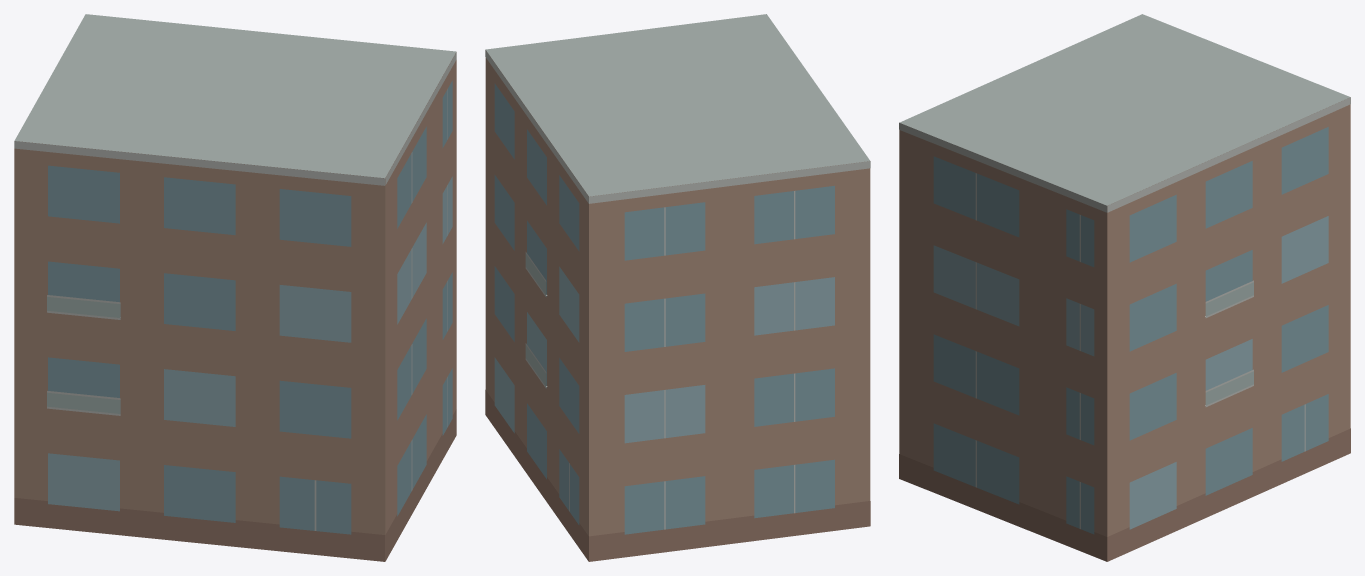
File: residential-a662c1ce-1e1c-4312-9886-9658c5e630bd.glb
3 renders of one model, left to right at view 1: azimuth 30°, elevation 25°; view 2: azimuth 150°, elevation 25°; view 3: azimuth 270°, elevation 25°, orthographic. The views are drawn at different scales.
Visible parts, largest first — view 1: residential-a662c1ce-1e1c-4312-9886-9658c5e630bd.tmp; view 2: residential-a662c1ce-1e1c-4312-9886-9658c5e630bd.tmp; view 3: residential-a662c1ce-1e1c-4312-9886-9658c5e630bd.tmp.
Boxes of the visible parts, x1=… form: residential-a662c1ce-1e1c-4312-9886-9658c5e630bd.tmp: x1=14, y1=14, x2=456, y2=561; residential-a662c1ce-1e1c-4312-9886-9658c5e630bd.tmp: x1=485, y1=14, x2=870, y2=561; residential-a662c1ce-1e1c-4312-9886-9658c5e630bd.tmp: x1=899, y1=14, x2=1350, y2=561.
Bounding box in the file's own units: 14.1 × 12.2 × 14.02.
